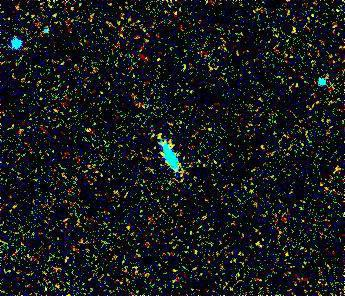star: (69, 115, 99, 145)
